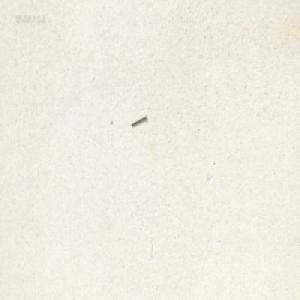Bolt: (130, 114, 146, 127)
